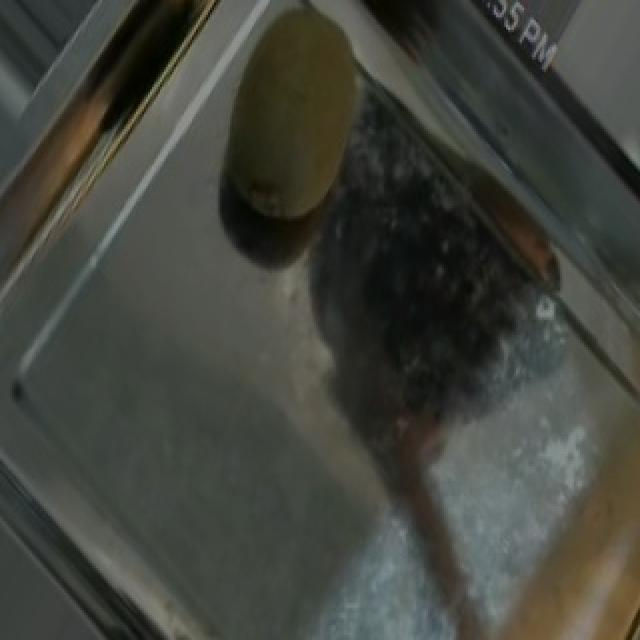Fruit: (184, 0, 406, 258), (462, 407, 640, 640)
